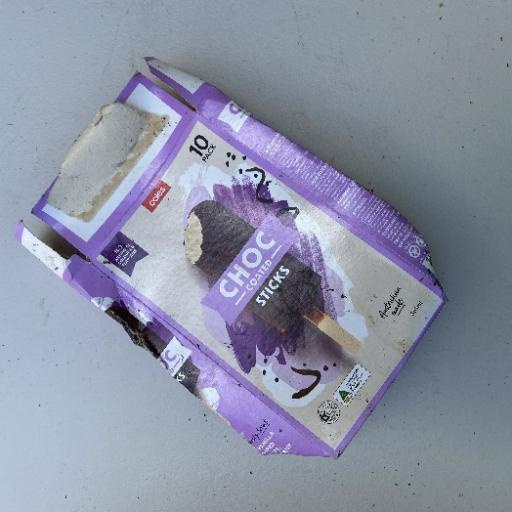Cardboard: (14, 56, 450, 460)
